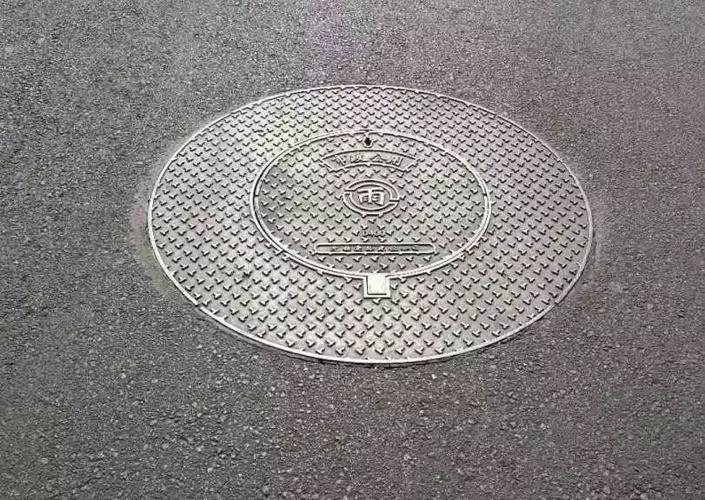wellcover: (143, 62, 599, 370)
